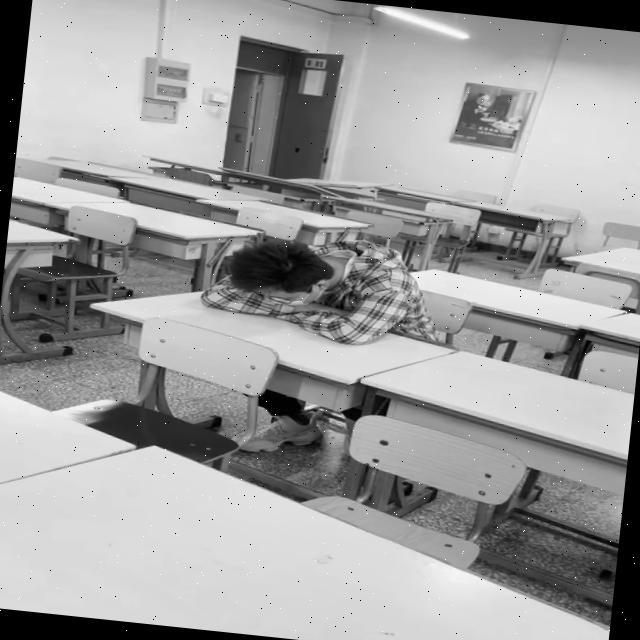sleep: (195, 230, 468, 349)
